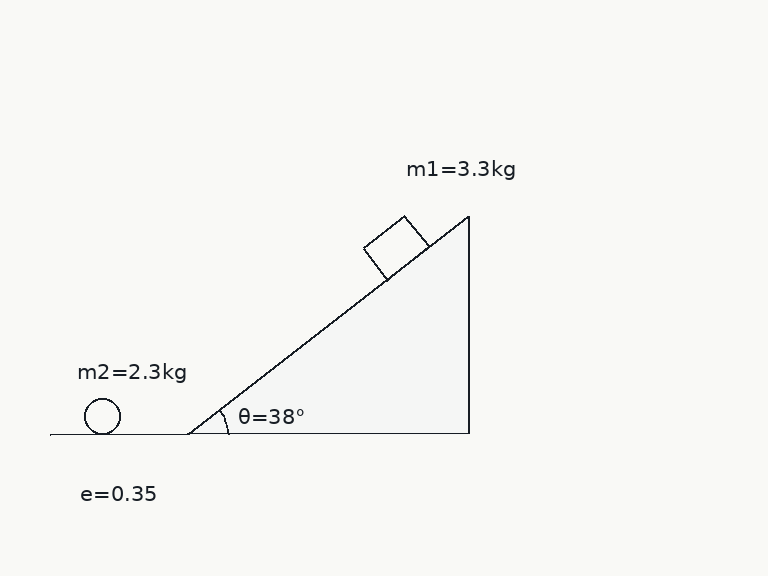ball: (82, 396, 122, 436)
block: (360, 213, 430, 281)
ramp: (186, 213, 470, 436)
